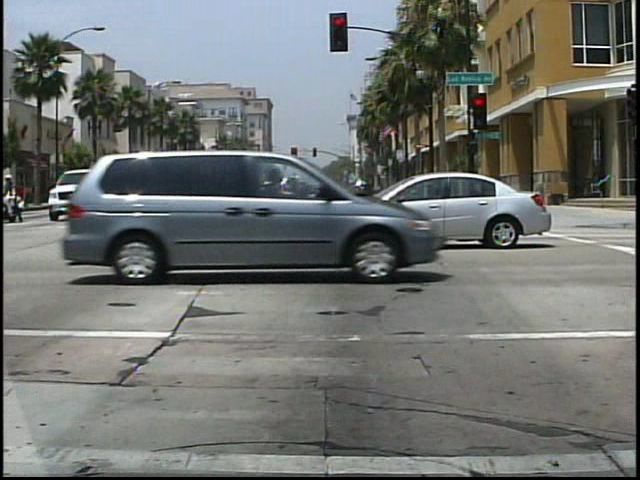person: (3, 171, 29, 226)
